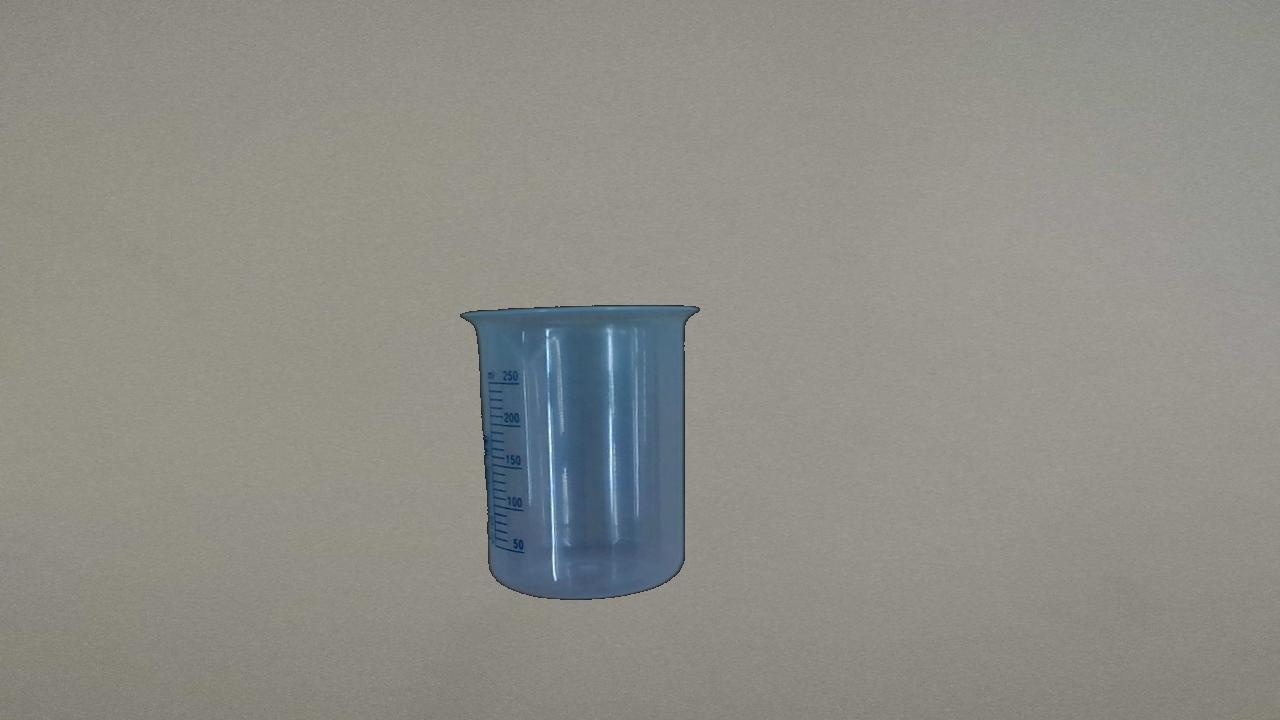becker: (458, 303, 698, 601)
